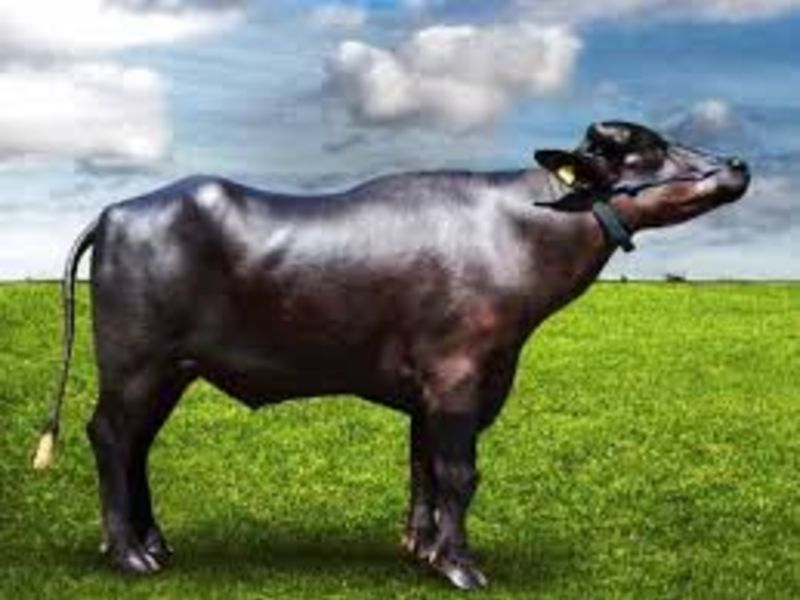buffalo: (25, 115, 752, 594)
